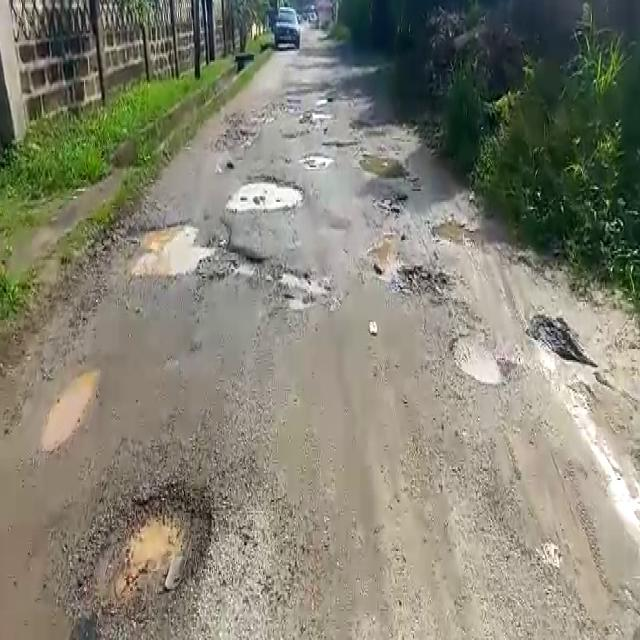Pothole: (91, 476, 220, 624), (122, 219, 255, 280), (43, 369, 101, 453), (524, 308, 598, 370), (451, 329, 516, 388), (227, 171, 305, 210), (397, 262, 457, 308), (278, 269, 338, 311), (430, 210, 481, 248), (359, 149, 411, 185), (300, 150, 335, 166)
